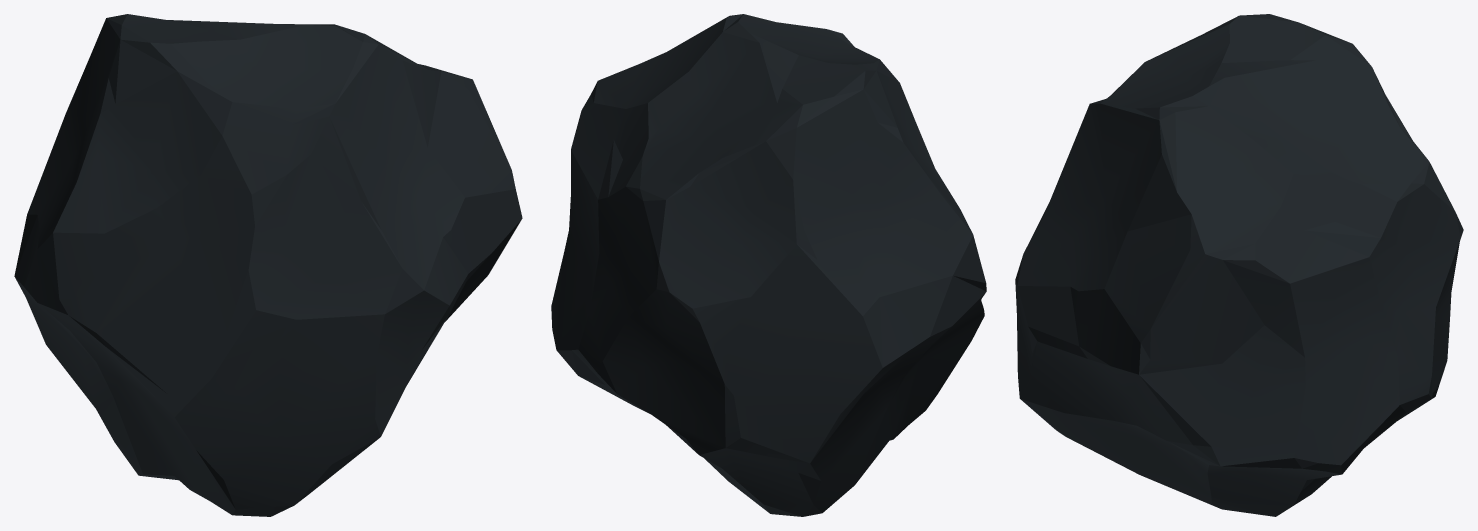
The model's file is Asteroid_m_07.FBX.
The picture shows the model from 3 angles, left to right: view 1: azimuth 30°, elevation 25°; view 2: azimuth 150°, elevation 25°; view 3: azimuth 270°, elevation 25°; orthographic projection. The views are drawn at different scales.
Parts seen in each view (by area): view 1: Asteroid_m_07; view 2: Asteroid_m_07; view 3: Asteroid_m_07.
Boxes of the visible parts, left/top/right/bottom form: Asteroid_m_07: left=14, top=14, right=522, bottom=516; Asteroid_m_07: left=551, top=14, right=986, bottom=516; Asteroid_m_07: left=1015, top=14, right=1463, bottom=516.
Bounding box in the file's own units: 854 × 899 × 798.
